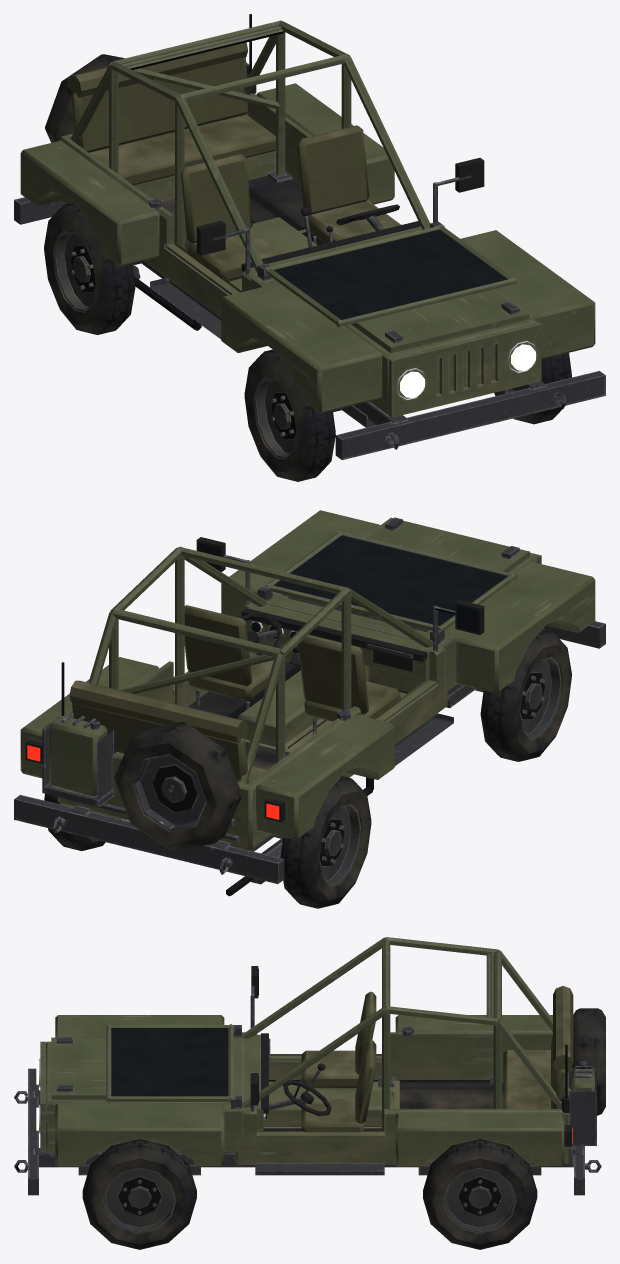
The model's file is jeep.glb.
3 renders of one model, top to bottom at view 1: azimuth 30°, elevation 25°; view 2: azimuth 150°, elevation 25°; view 3: azimuth 270°, elevation 25°, orthographic. The views are drawn at different scales.
Parts seen in each view (by area): view 1: body, wheel_rl, wheel_fl, wheel_fr; view 2: body, wheel_fl, wheel_rl, wheel_rr; view 3: body, wheel_fr, wheel_rr.
Part boxes in pixels (<box>): body: <box>14,14,605,459</box>; wheel_rl: <box>44,202,135,334</box>; wheel_fl: <box>244,349,335,481</box>; wheel_fr: <box>494,353,571,424</box>; body: <box>14,510,605,896</box>; wheel_fl: <box>480,629,571,761</box>; wheel_rl: <box>280,776,371,908</box>; wheel_rr: <box>44,793,120,850</box>; body: <box>14,937,605,1195</box>; wheel_fr: <box>82,1139,196,1249</box>; wheel_rr: <box>423,1139,537,1249</box>.
Bounding box in the file's own units: 2.04 × 1.83 × 4.35.
2 materials, 2 textured.
